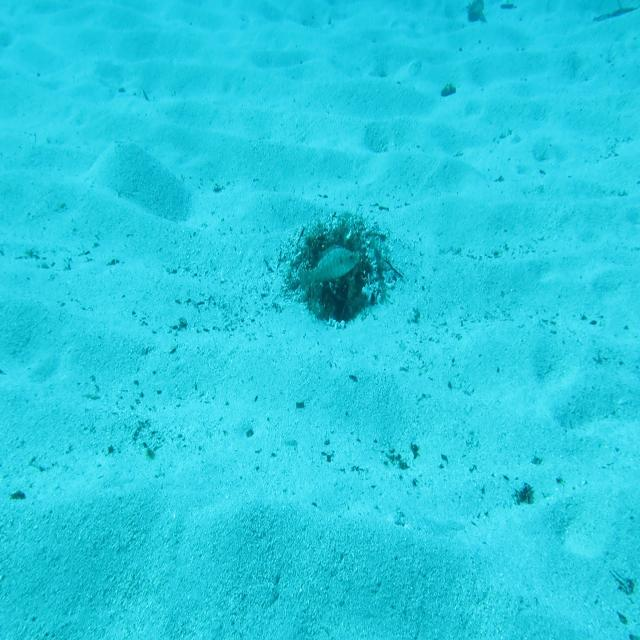MAN: (299, 243, 360, 290)
nest: (290, 213, 394, 329)
vegetation: (514, 484, 534, 505), (440, 83, 455, 98)
